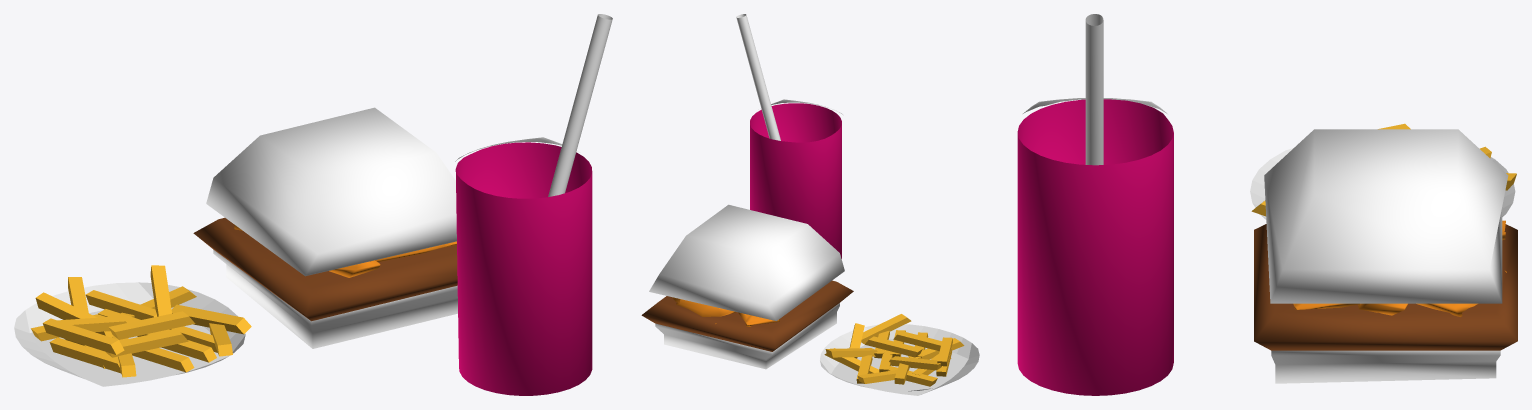
Rendered from burger.glb.
3 views of the same model, side by side, from view 1: azimuth 30°, elevation 25°; view 2: azimuth 150°, elevation 25°; view 3: azimuth 270°, elevation 25° (orthographic). The views are drawn at different scales.
Visible parts, largest first — view 1: cola, panArriba, papas, carne, panAbajo, plato, sorbete, nuggets; view 2: panArriba, cola, papas, carne, plato, panAbajo, sorbete, nuggets; view 3: cola, panArriba, carne, panAbajo, sorbete, nuggets, plato, papas.
Boxes of the visible parts, bbox=[...] form: cola: bbox=[455, 142, 592, 395]; panArriba: bbox=[206, 107, 456, 276]; papas: bbox=[31, 265, 251, 377]; carne: bbox=[193, 217, 457, 321]; panAbajo: bbox=[213, 250, 457, 348]; plato: bbox=[14, 282, 245, 386]; sorbete: bbox=[548, 14, 612, 196]; nuggets: bbox=[234, 224, 456, 277]; panArriba: bbox=[649, 204, 844, 320]; cola: bbox=[750, 103, 841, 258]; papas: bbox=[824, 314, 964, 386]; carne: bbox=[641, 280, 853, 351]; plato: bbox=[820, 324, 979, 395]; panAbajo: bbox=[655, 303, 839, 369]; sorbete: bbox=[736, 14, 780, 140]; nuggets: bbox=[672, 297, 779, 326]; cola: bbox=[1017, 99, 1173, 395]; panArriba: bbox=[1264, 129, 1508, 303]; carne: bbox=[1254, 224, 1517, 350]; panAbajo: bbox=[1271, 350, 1500, 383]; sorbete: bbox=[1085, 14, 1103, 165]; nuggets: bbox=[1293, 220, 1506, 316]; plato: bbox=[1250, 148, 1515, 219]; papas: bbox=[1251, 123, 1516, 216].
Size of the model in its own units: 5.59 by 3.96 by 4.62.
